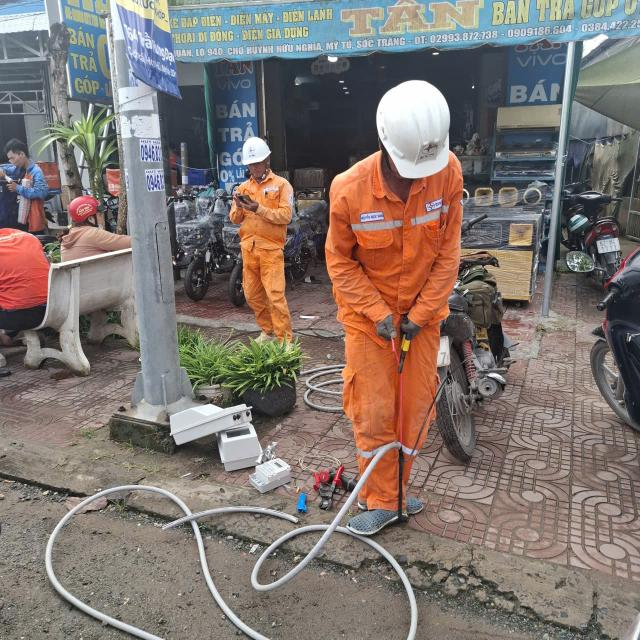gloves: (388, 303, 427, 345), (374, 306, 398, 346)
helmet: (376, 79, 462, 181), (240, 132, 278, 170)
shoes: (349, 494, 412, 546), (348, 480, 427, 520)
